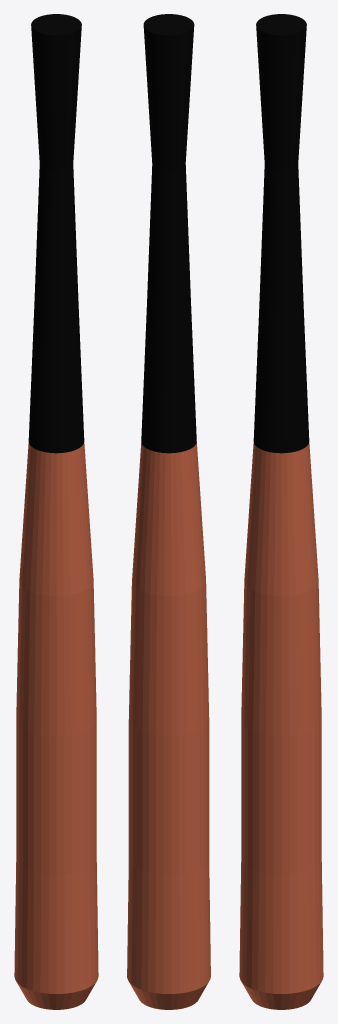
The model's file is bat.obj.
The picture shows the model from 3 angles, left to right: view 1: azimuth 90°, elevation 25°; view 2: azimuth 150°, elevation 25°; view 3: azimuth 270°, elevation 25°; orthographic projection.
Parts seen in each view (by area): view 1: Cylinder; view 2: Cylinder; view 3: Cylinder.
Part boxes in pixels (x1,y1,x2,y2): Cylinder: (14, 14, 98, 1009); Cylinder: (127, 14, 210, 1009); Cylinder: (239, 14, 323, 1009).
Bounding box in the file's own units: 0.2244 × 2.86 × 0.2244.
